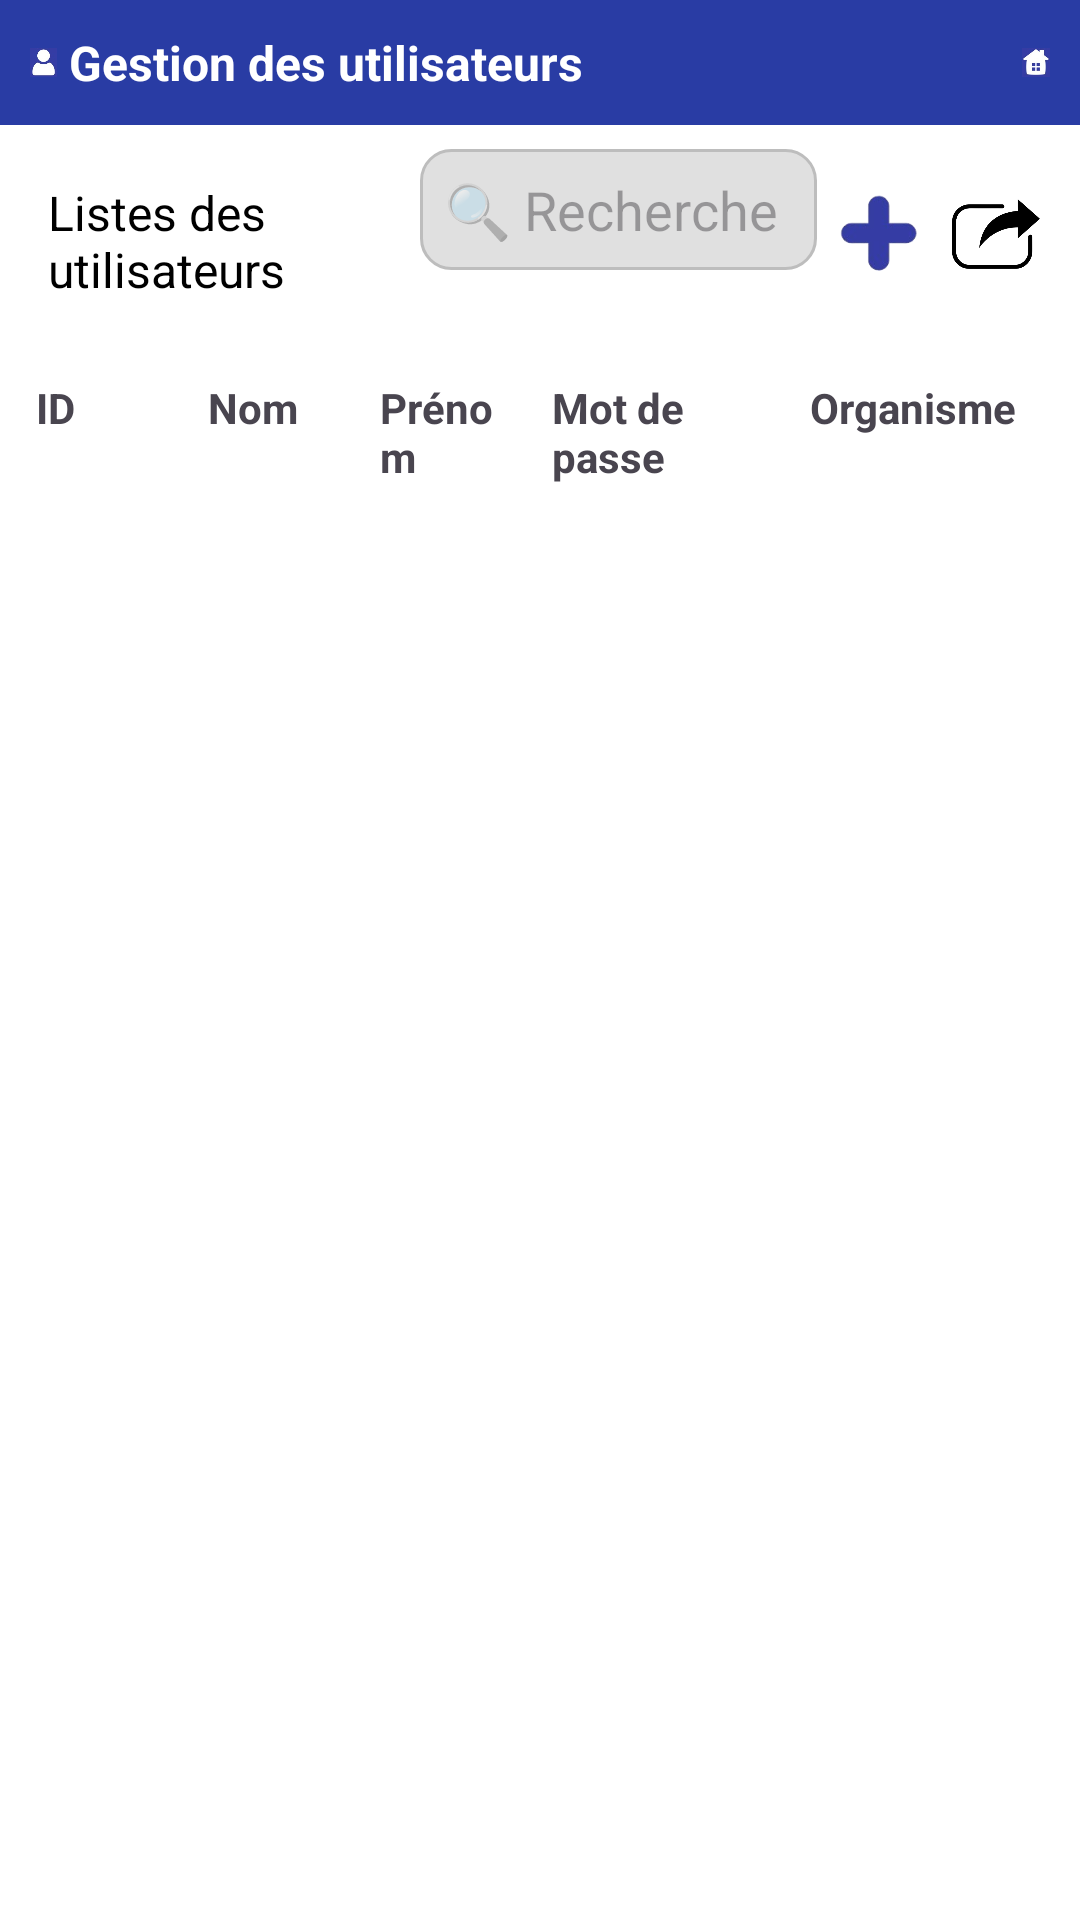

Where to tap for icons on this 1080 x 1920 app screen, as (x,y):
Ajouter utilisateur: (879,233)
Exporter utilisateur: (996,234)
home: (1036,62)
user: (43,62)
